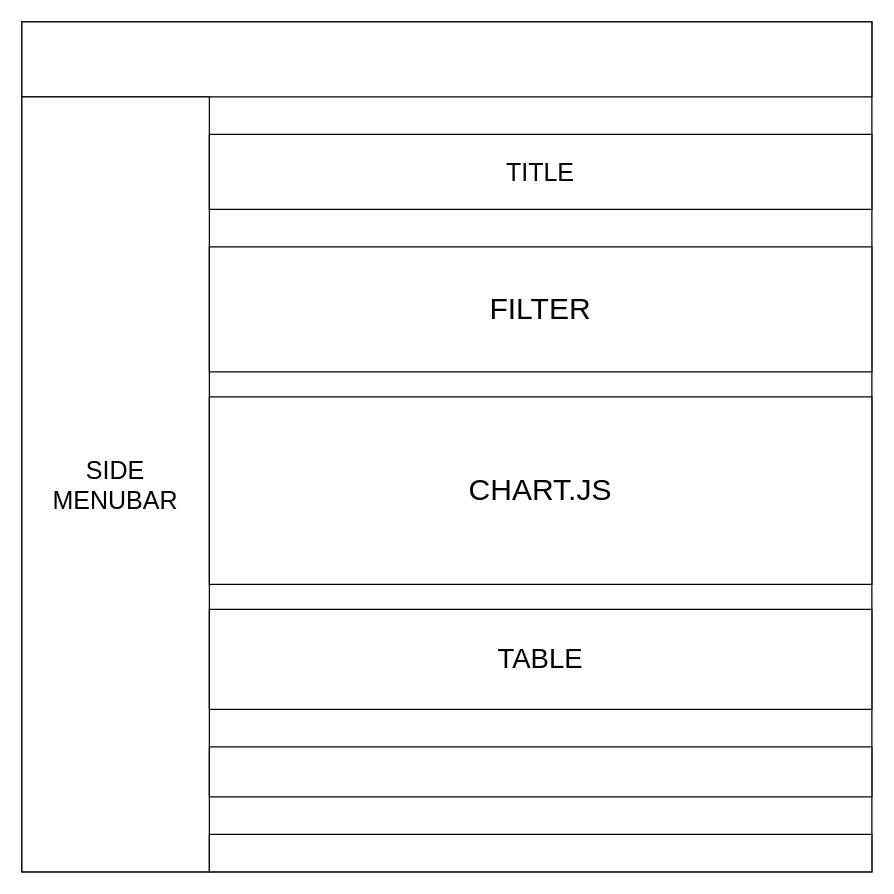
The diagram is 894 pixels wide and 894 high, and some of its shapes have lost their labels. Here are the shapes that lost their labels. From the top down, the box of each, then its label:
(21, 21, 872, 97): STICKY HEADER
(208, 746, 872, 797): PAGINATION
(208, 833, 872, 872): FOOTER
